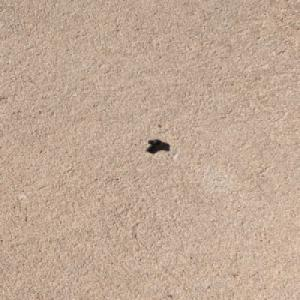BoltWasher: (144, 139, 164, 152)
